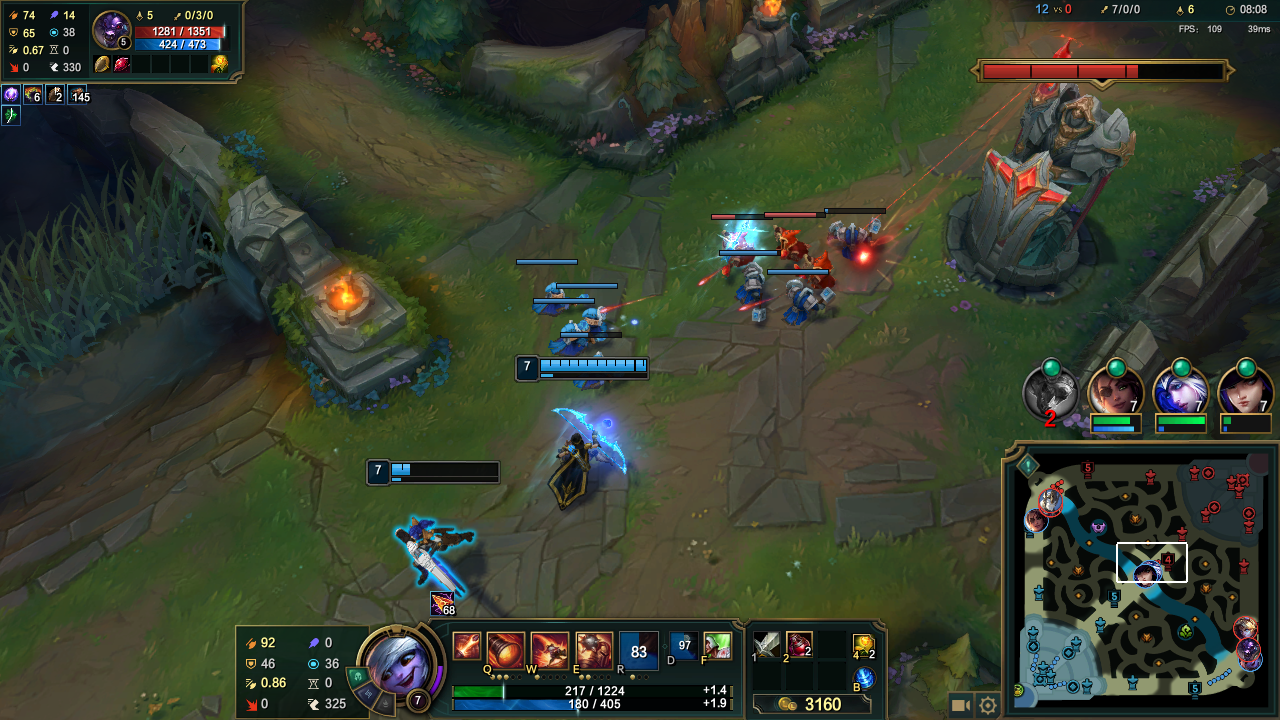DFFYT: (970, 54, 1128, 303)
DFXB: (763, 219, 810, 261), (713, 230, 759, 268)
WFXB: (775, 274, 839, 324), (829, 217, 887, 267), (573, 307, 633, 352), (730, 265, 774, 320), (546, 320, 594, 357), (532, 285, 577, 319)
Yita: (1186, 675, 1203, 698)
